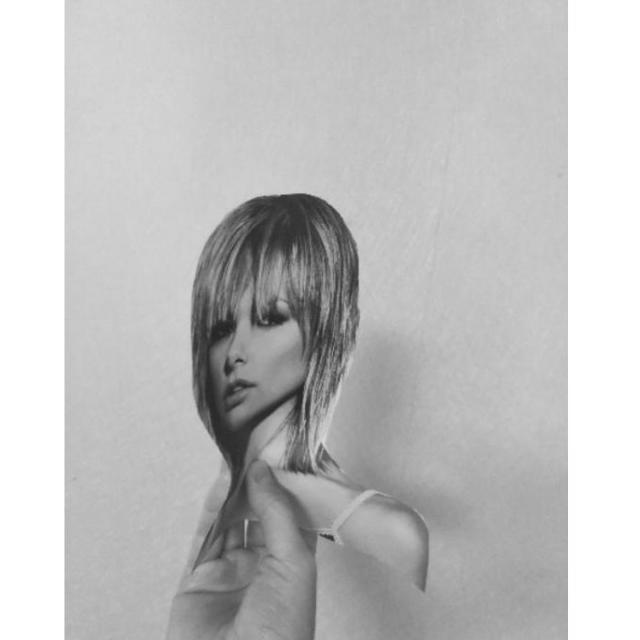fake: (170, 180, 430, 600)
